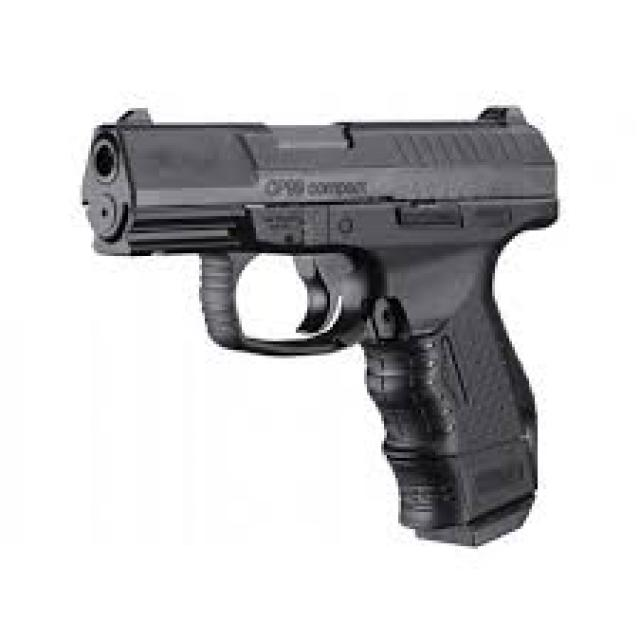pistol: (69, 98, 577, 558)
